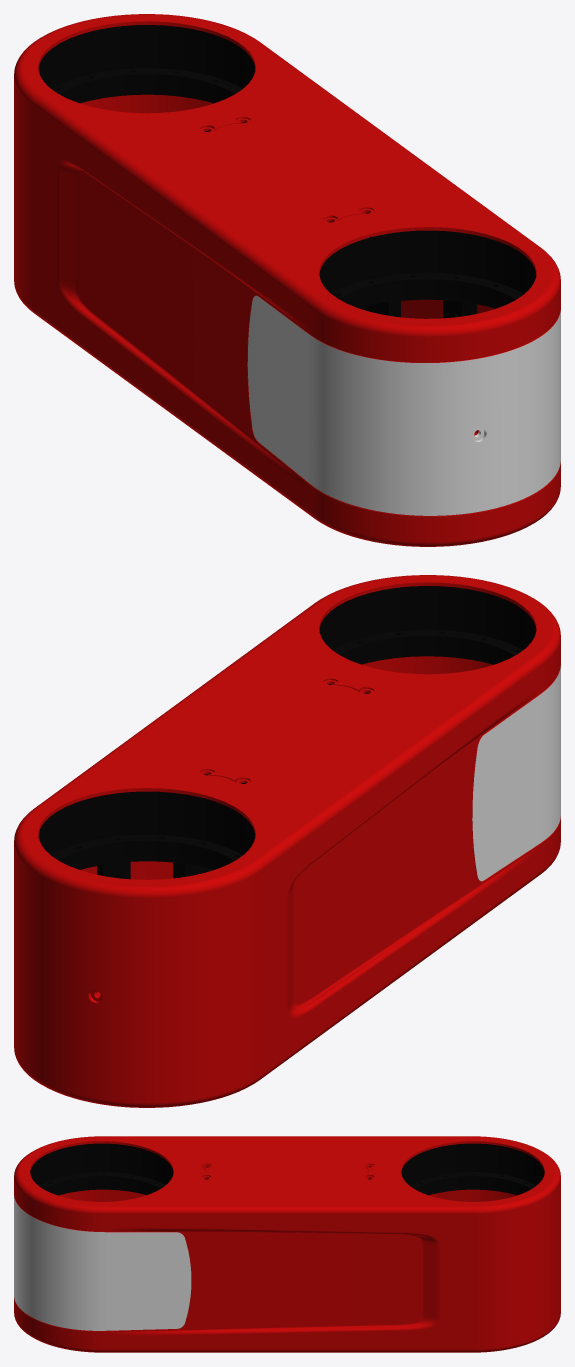
3 views of the same model, one above another, from view 1: azimuth 30°, elevation 25°; view 2: azimuth 150°, elevation 25°; view 3: azimuth 270°, elevation 25° (orthographic). The views are drawn at different scales.
Visible parts, largest first — view 1: link1; view 2: link1; view 3: link1.
Boxes of the visible parts, <box> form: link1: <box>14,14,560,546</box>; link1: <box>14,575,560,1107</box>; link1: <box>14,1136,560,1352</box>.
Size of the model in its own units: 0.153 by 0.141 by 0.476.
